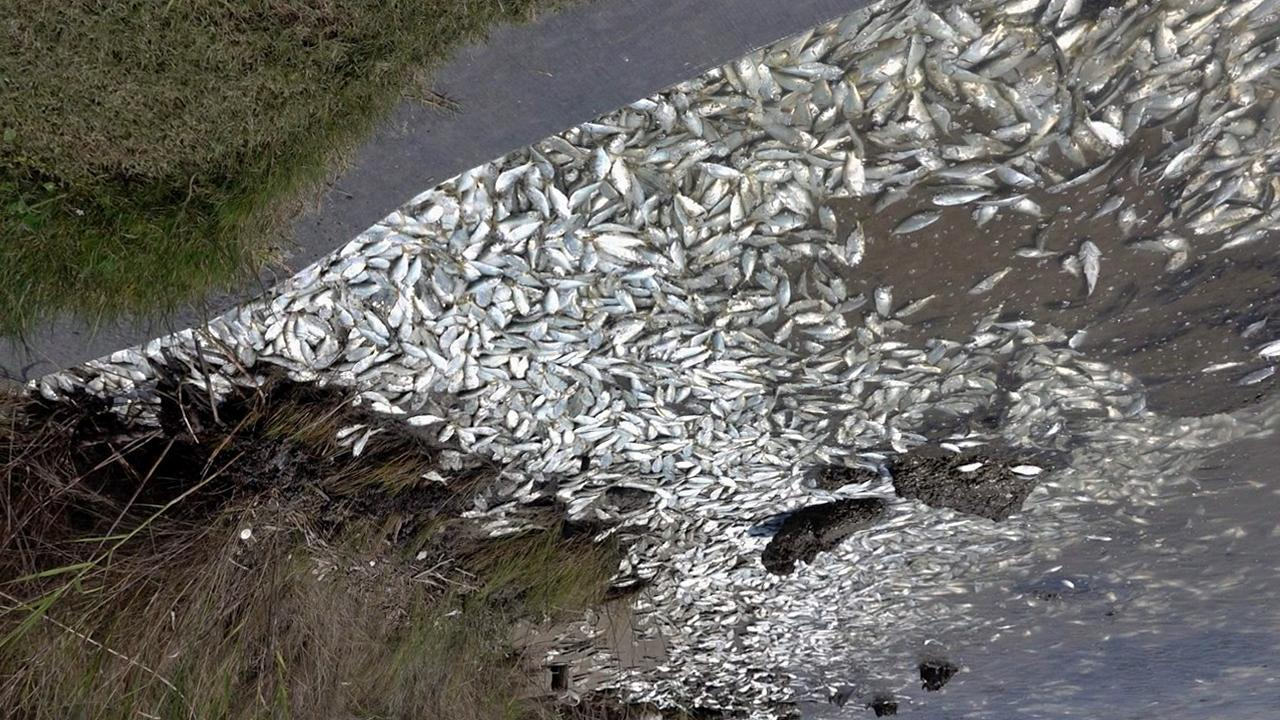Dead Animals Pollution: (891, 0, 1280, 427)
